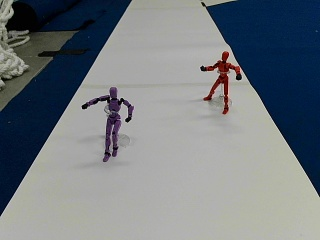pedestrian: (81, 86, 132, 159), (199, 50, 241, 113)
